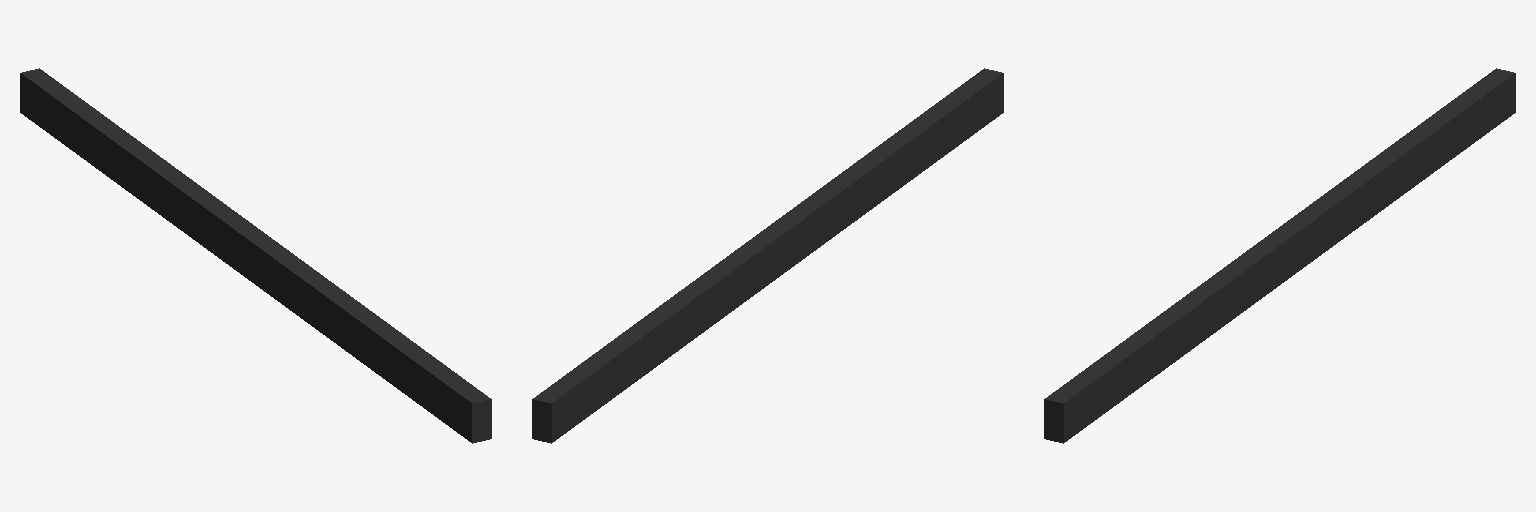
The robot description file, URDF, robot "wall":
<robot name="wall">
  <link name="baseLink">
   
    <inertial>
      <origin rpy="0 0 0" xyz="0 0 0" />
       <mass value="10" />
       <inertia ixx="0" ixy="0" ixz="0" iyy="0" iyz="0" izz="0" />
    </inertial>
    <visual>
      <origin rpy="0 0 0" xyz="0 0 0" />
      <geometry>
			  <box size="0.1 4.1 0.2" />
      </geometry>
       <material name="grey">
        <color rgba="0.24 0.24 0.24 1" />
      </material>
    </visual>
    <collision>
      <origin rpy="0 0 0" xyz="0 0 0" />
      <geometry>
	 	      <box size="0.1 4.1 0.2" />
      </geometry>
    </collision>
  </link>
</robot>

--- What the picture shows (computed from the rendered views, not written in the file) ---
The picture shows the robot from 3 angles, left to right: view 1: azimuth 30°, elevation 25°; view 2: azimuth 150°, elevation 25°; view 3: azimuth 330°, elevation 25°; orthographic projection.
Robot: wall — 1 links, 0 joints (none); root link baseLink; default pose: every joint at zero.
Visible links, largest first — view 1: baseLink; view 2: baseLink; view 3: baseLink.
Link boxes in pixels (box(x1,y1,x2,y2)): baseLink: box(20, 68, 491, 443); baseLink: box(532, 68, 1003, 443); baseLink: box(1044, 68, 1515, 443).
Bounding box of the posed robot: 0.1 × 4.1 × 0.2 m (x, y, z).
Geometry: primitives only (box / cylinder / sphere), no mesh files.
